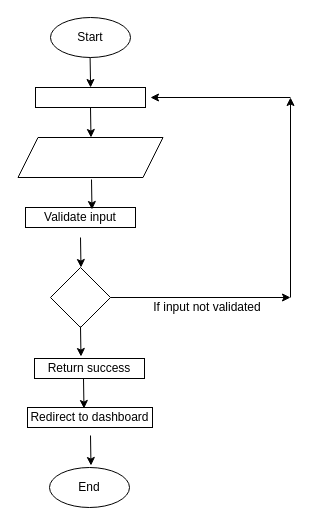
Some shapes in this 316 by 525 pixel diagram are drawn without their labels. The shapes that lost their labels are listed below. From the top down, each one's box as (x1, y1, x2, y2) in pixels, then its label:
(34, 86, 146, 108): login page
(17, 136, 163, 178): email and password
(50, 266, 110, 328): IF input == VALID
